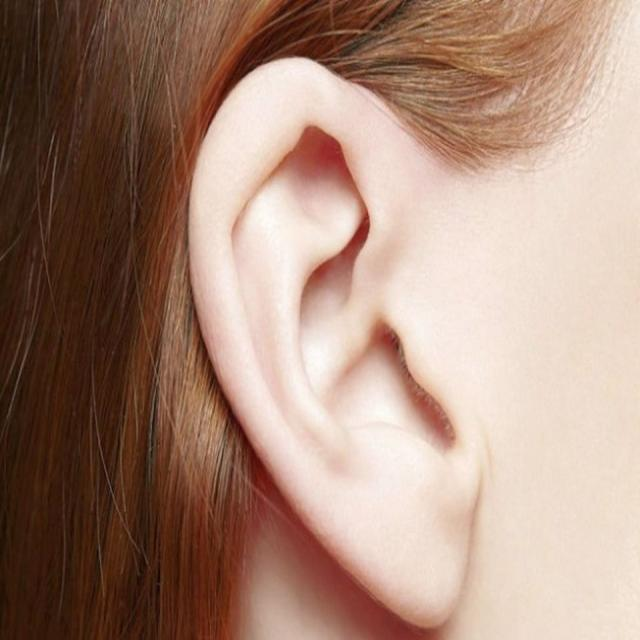earlobe: (189, 56, 471, 630)
